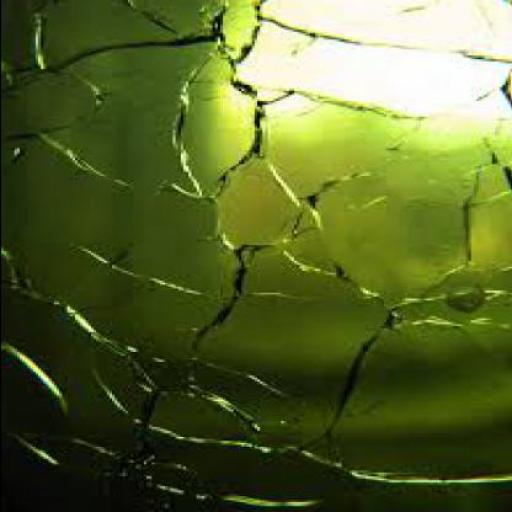glass: (0, 1, 511, 512), (2, 138, 254, 364), (3, 4, 230, 199), (195, 246, 396, 452), (311, 292, 511, 485), (286, 109, 475, 308), (2, 253, 180, 458), (238, 22, 510, 118), (2, 2, 248, 76), (258, 1, 511, 68), (250, 98, 412, 202), (180, 62, 263, 196), (221, 158, 325, 251), (146, 393, 264, 449), (432, 262, 511, 307), (221, 4, 261, 64)
